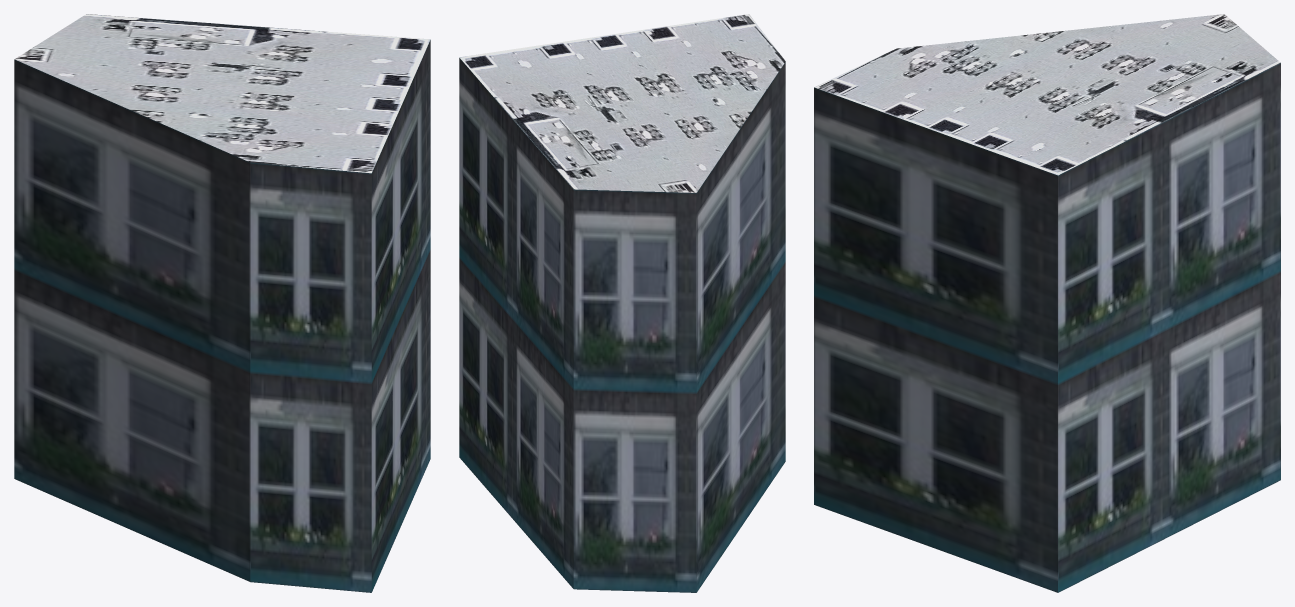
File: ResTex__2707.fbx
3 views of the same model, side by side, from view 1: azimuth 30°, elevation 25°; view 2: azimuth 150°, elevation 25°; view 3: azimuth 270°, elevation 25° (orthographic). The views are drawn at different scales.
Visible parts, largest first — view 1: CityEngineMaterial_11_m, CityEngineMaterial_m; view 2: CityEngineMaterial_11_m, CityEngineMaterial_m; view 3: CityEngineMaterial_11_m, CityEngineMaterial_m.
Boxes of the visible parts, <box> form: CityEngineMaterial_11_m: <box>14,40,430,592</box>; CityEngineMaterial_m: <box>14,14,430,173</box>; CityEngineMaterial_11_m: <box>459,58,785,592</box>; CityEngineMaterial_m: <box>459,14,785,192</box>; CityEngineMaterial_11_m: <box>814,63,1280,592</box>; CityEngineMaterial_m: <box>814,14,1280,175</box>.
Bounding box in the file's own units: 4.98 × 6 × 6.08.
2 materials, 2 textured.
